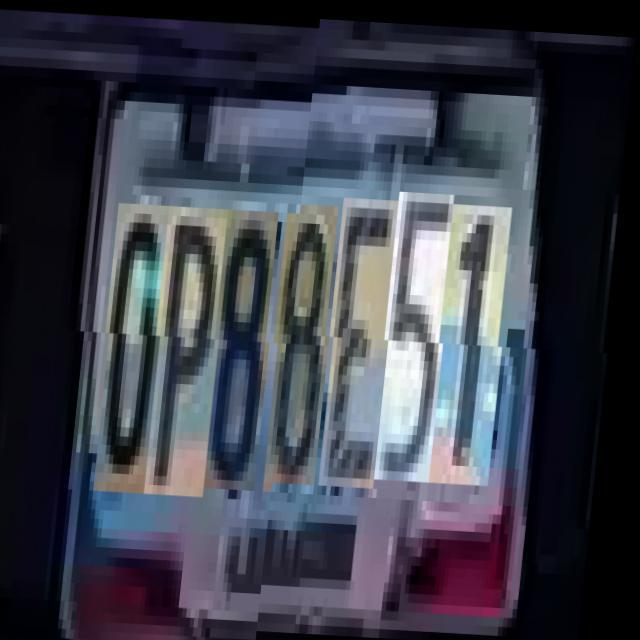1: (438, 207, 520, 488)
5: (384, 196, 462, 486)
8: (214, 207, 287, 488), (273, 209, 346, 490)
E: (328, 203, 406, 493)
O: (104, 202, 182, 492)
P: (154, 204, 236, 494)
